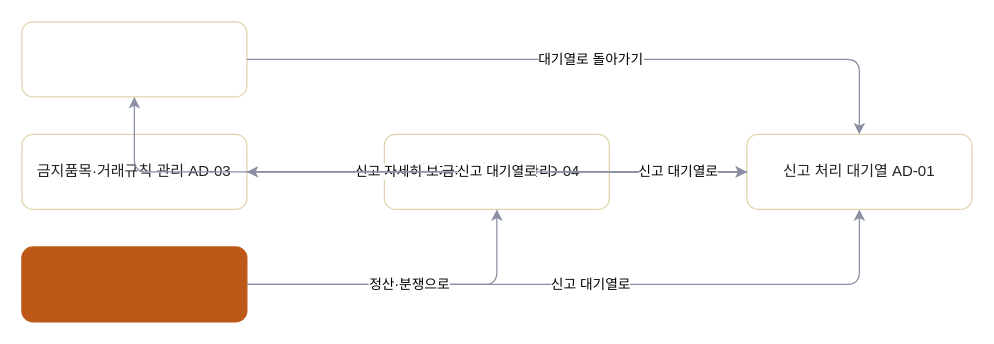
This 994x344 diagram has some shape labels left out. The shapes that lost their labels are listed below. From the top down, each one's centre as x and y in pixels, then its label:
(134,59): 신고 상세·조치 AD-02
(134,284): 운영자 로그인 AD-05
